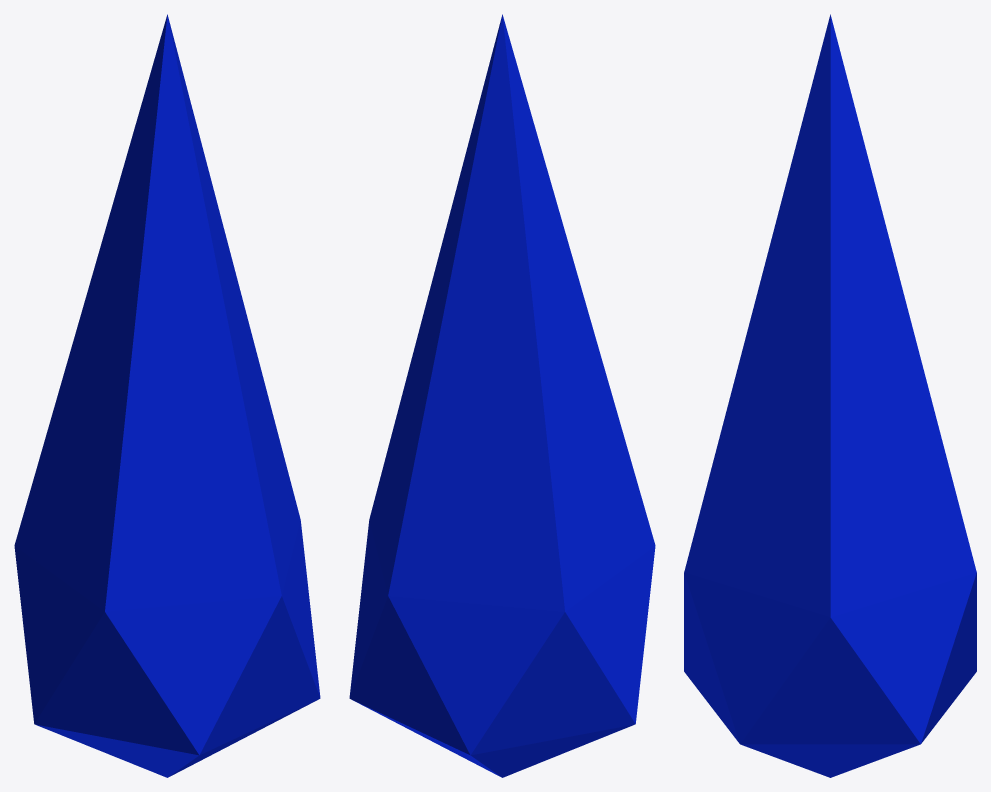
Rendered from icecreamblue.glb.
The picture shows the model from 3 angles, left to right: view 1: azimuth 30°, elevation 25°; view 2: azimuth 150°, elevation 25°; view 3: azimuth 270°, elevation 25°; orthographic projection.
Parts seen in each view (by area): view 1: Icosphere; view 2: Icosphere; view 3: Icosphere.
Part boxes in pixels (x1,y1,x2,y2): Icosphere: (14,14,320,777); Icosphere: (349,14,655,777); Icosphere: (684,14,976,777).
Bounding box in the file's own units: 1.79 × 4.9 × 1.7.
